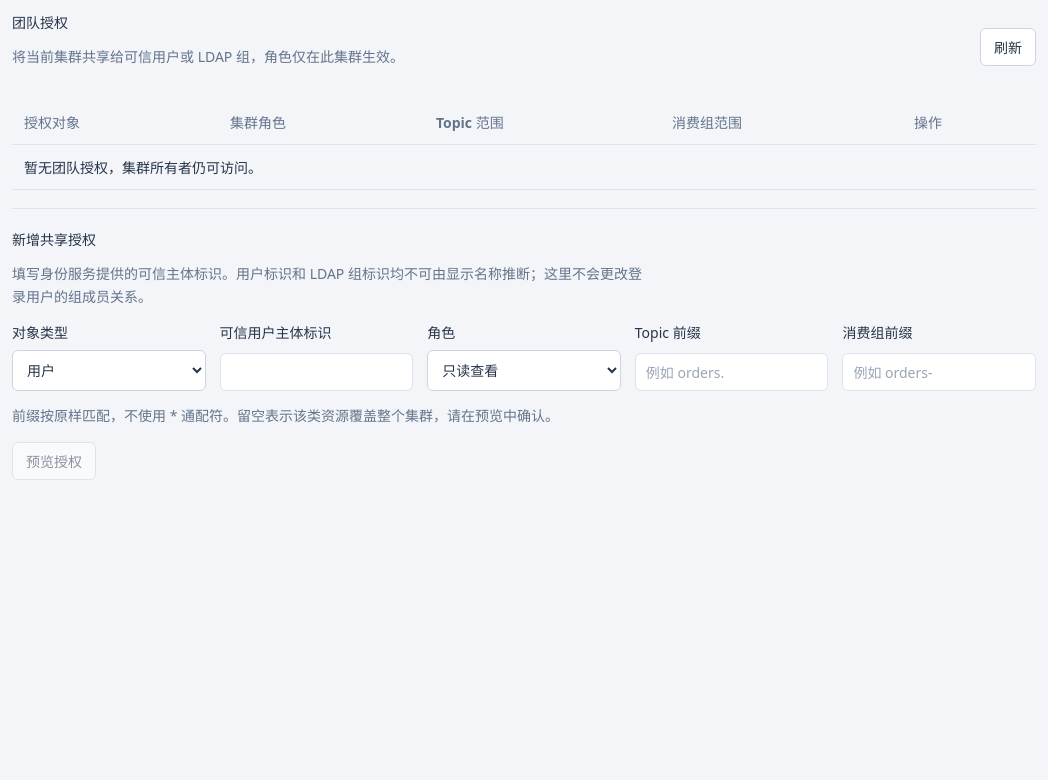
Test case: explains duplicate grant conflicts without adding a second row
The width and height of the screenshot is (1048, 780).
Type "existing" into the field labelled "可信用户主体标识" at (316, 372), box left=220, top=353, right=413, bottom=391
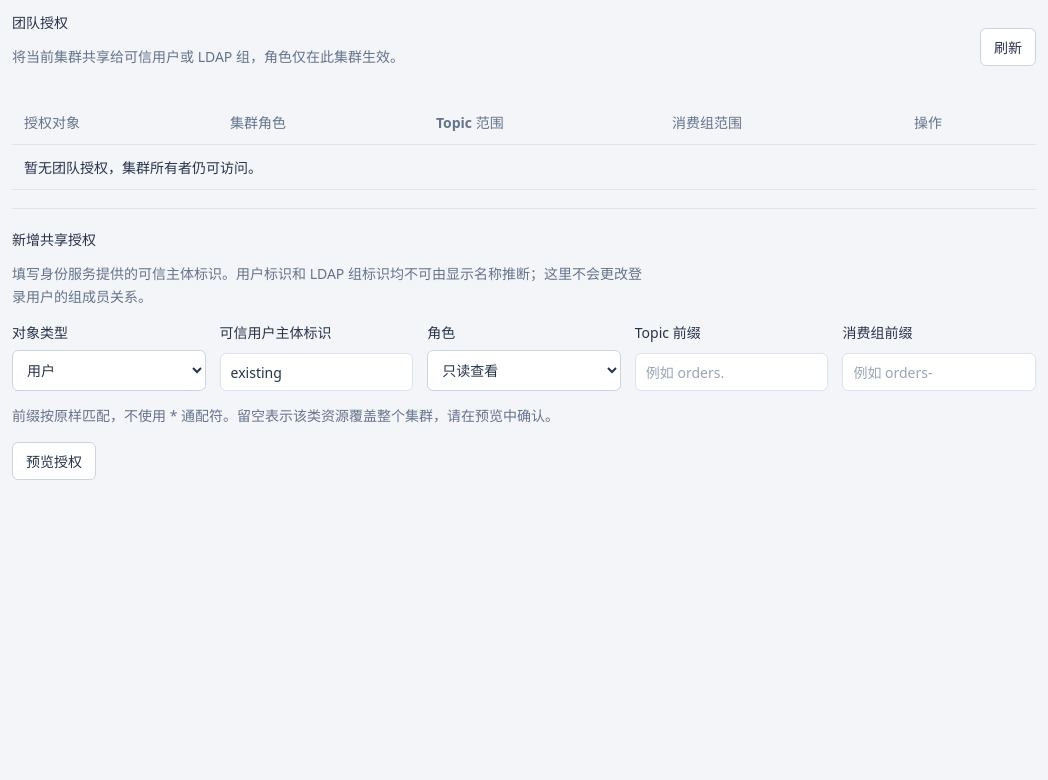
Submit the form, box left=12, top=208, right=1036, bottom=480
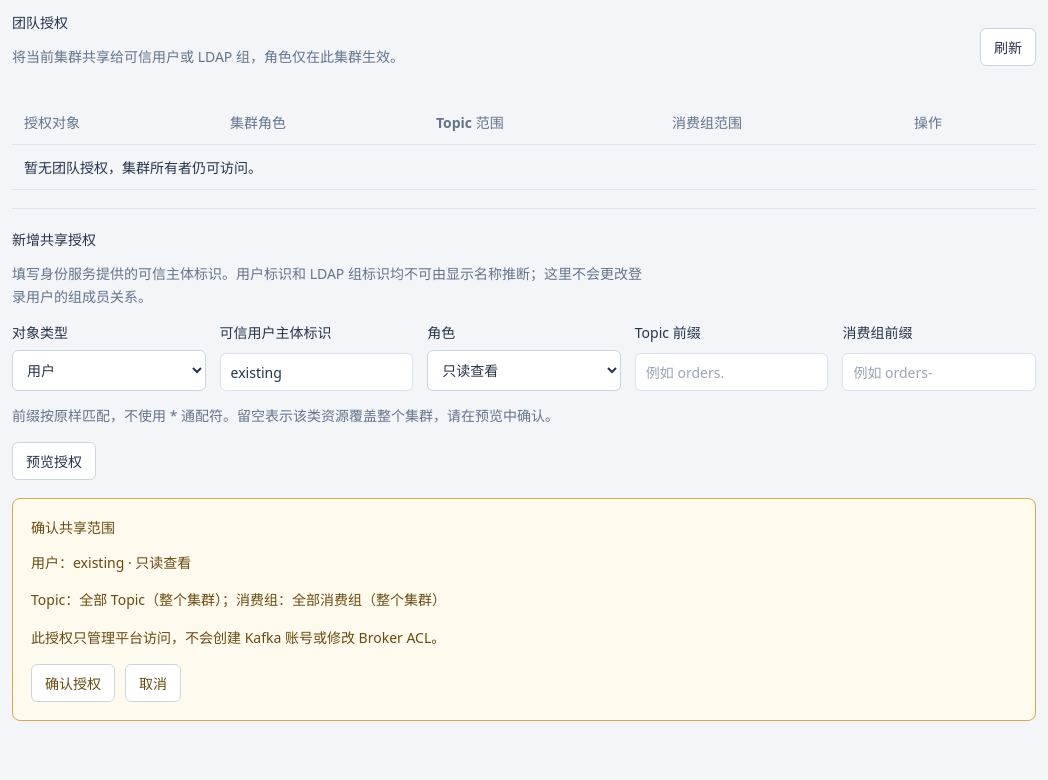
Click the button "确认授权" at (73, 683), box left=31, top=664, right=115, bottom=702
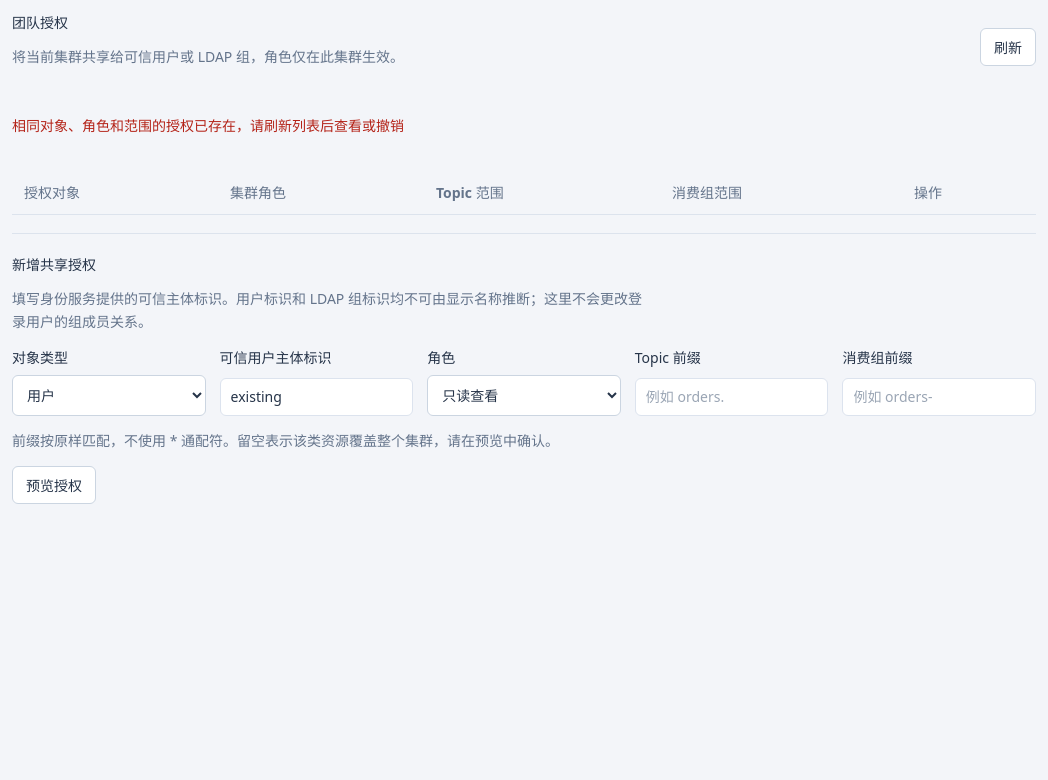
Check: the message "相同对象、角色和范围的授权已存在，请刷新列表后查看或撤销" is shown, box left=12, top=116, right=404, bottom=135
